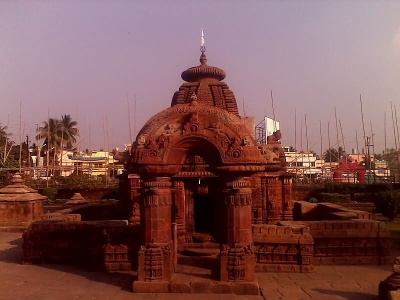torana: (125, 102, 265, 282)
